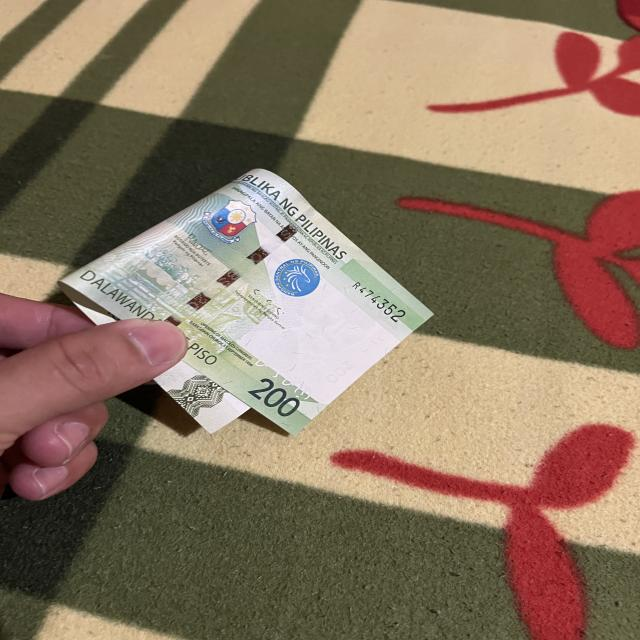security_thread: (161, 206, 321, 328)
see_through_mark: (251, 350, 320, 405)
serial_number: (348, 276, 411, 325)
